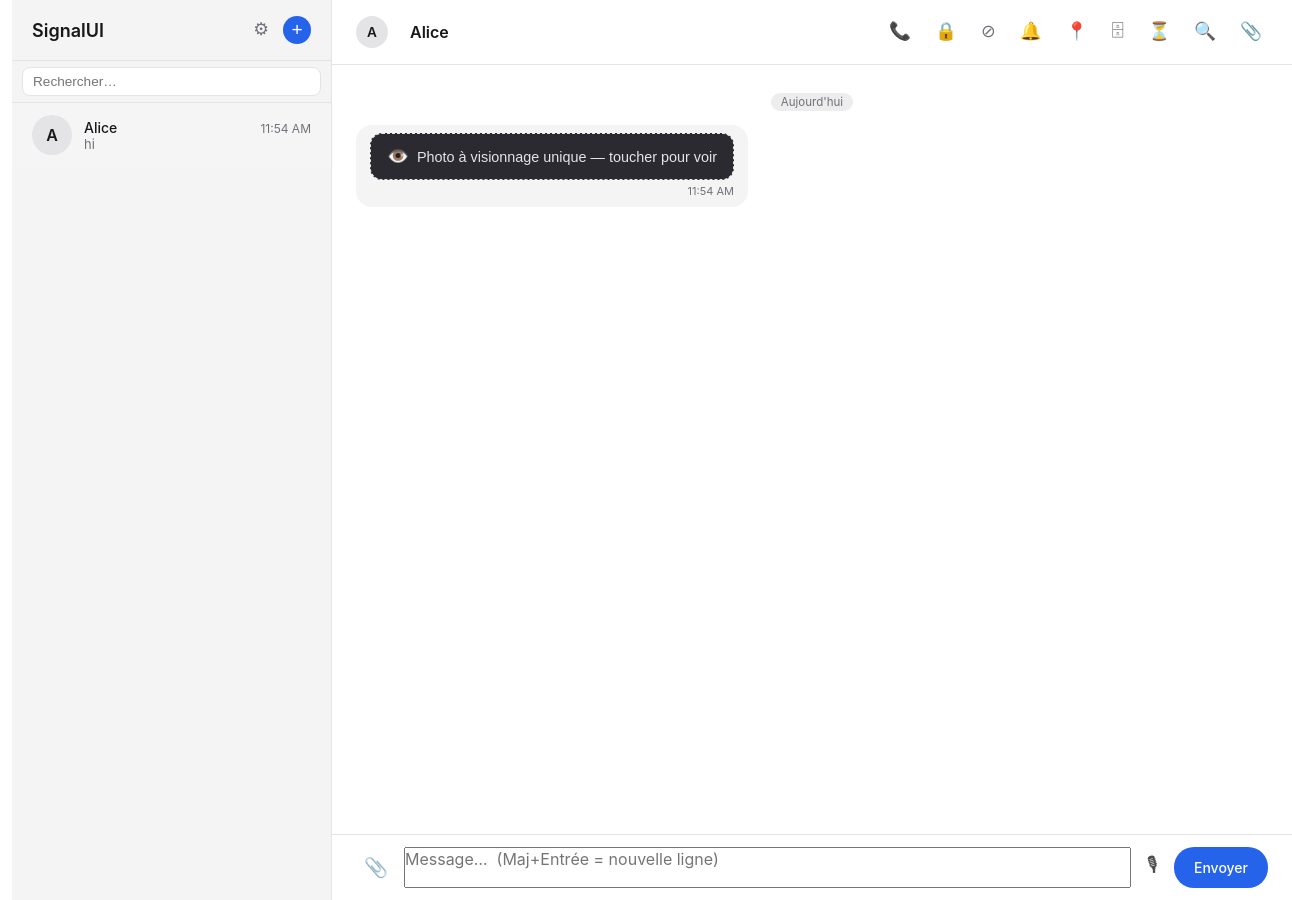
Test: ChatLayout disappearing + view-once › renders a disappearing-timer change as a system event
Click the button "A Alice 11:54 AM hi" at {"x": 52, "y": 135}, box [12,103,331,167]
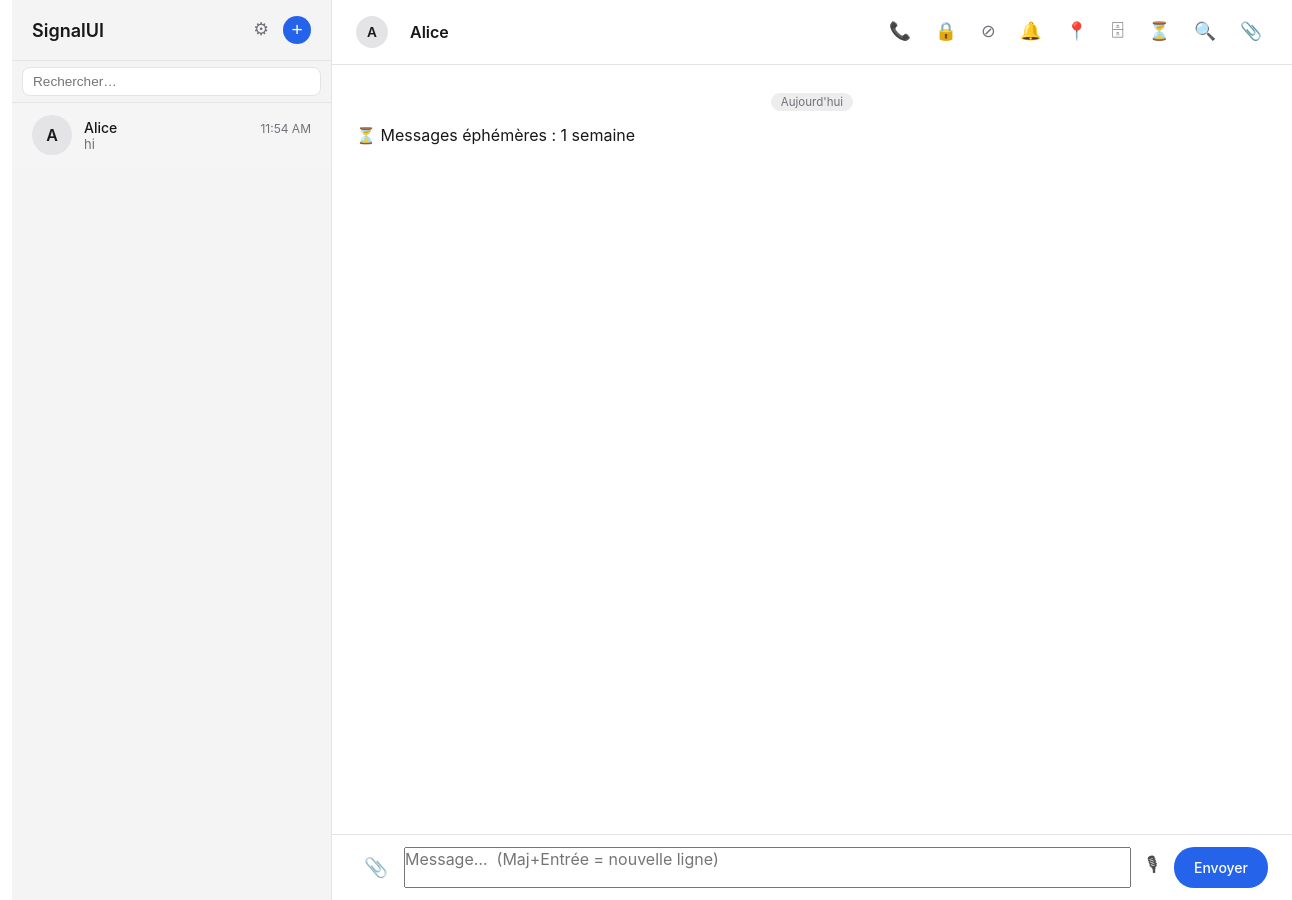
Result: the text "⏳ Messages éphémères : 1 semaine" is shown at [356,125,635,145]
